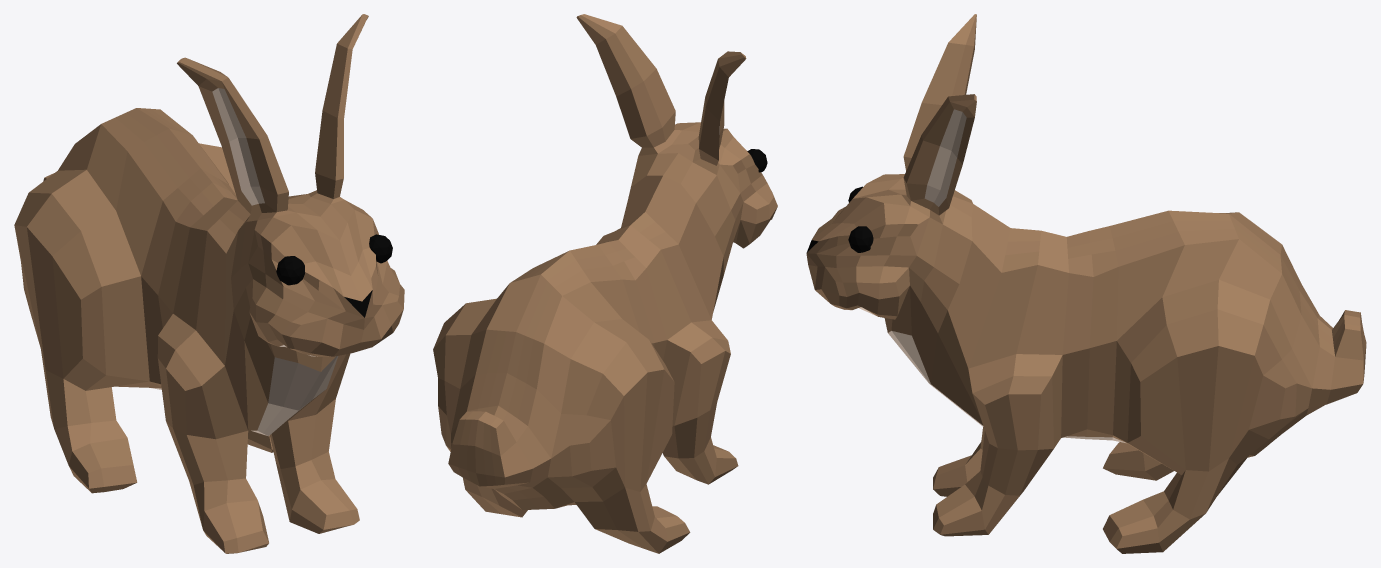
The model's file is rabbit (2).fbx.
3 renders of one model, left to right at view 1: azimuth 30°, elevation 25°; view 2: azimuth 150°, elevation 25°; view 3: azimuth 270°, elevation 25°, orthographic. The views are drawn at different scales.
Parts seen in each view (by area): view 1: Plane; view 2: Plane; view 3: Plane.
Boxes of the visible parts, x1,y1,x2,y2 form: Plane: (14,14,404,553); Plane: (433,14,777,553); Plane: (806,14,1366,553).
Bounding box in the file's own units: 101 × 205 × 230.
